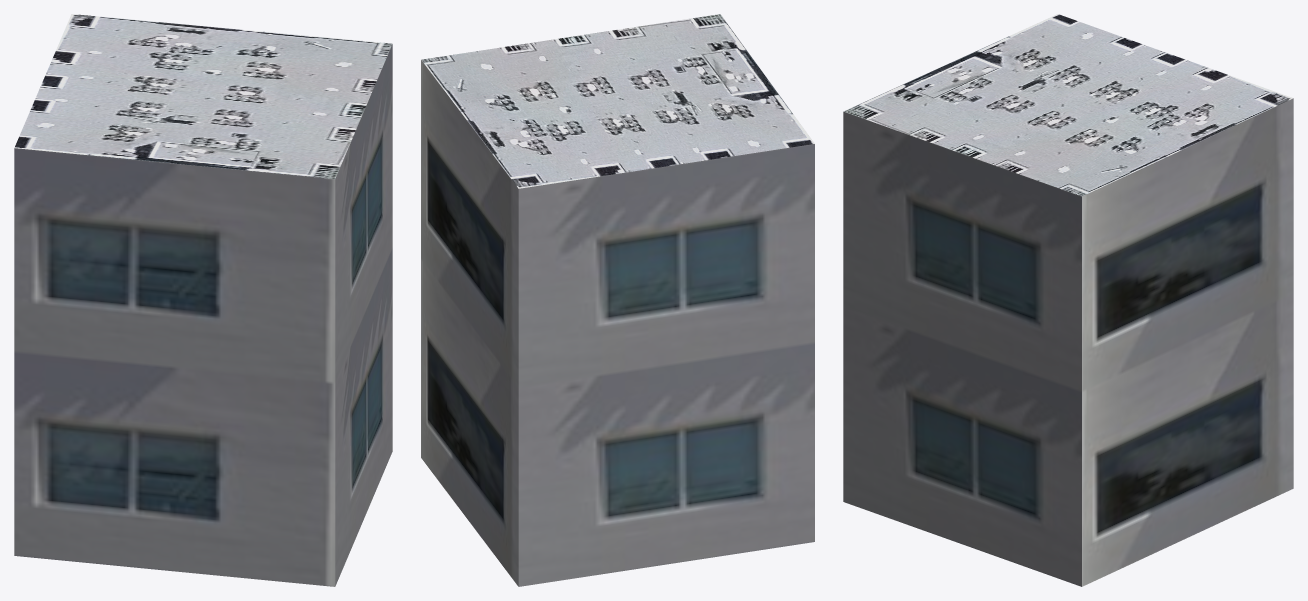
Rendered from ResTex__4338.fbx.
3 views of the same model, side by side, from view 1: azimuth 30°, elevation 25°; view 2: azimuth 150°, elevation 25°; view 3: azimuth 270°, elevation 25° (orthographic). The views are drawn at different scales.
Visible parts, largest first — view 1: CityEngineMaterial_10_m, CityEngineMaterial_m; view 2: CityEngineMaterial_10_m, CityEngineMaterial_m; view 3: CityEngineMaterial_10_m, CityEngineMaterial_m.
Part boxes in pixels (left/top/right/bottom): CityEngineMaterial_10_m: left=14, top=44, right=392, bottom=586; CityEngineMaterial_m: left=14, top=14, right=392, bottom=178; CityEngineMaterial_10_m: left=421, top=60, right=814, bottom=586; CityEngineMaterial_m: left=421, top=14, right=814, bottom=188; CityEngineMaterial_10_m: left=843, top=98, right=1293, bottom=586; CityEngineMaterial_m: left=844, top=14, right=1292, bottom=196.
Size of the model in its own units: 6.02 by 6 by 6.27.
2 materials, 2 textured.
